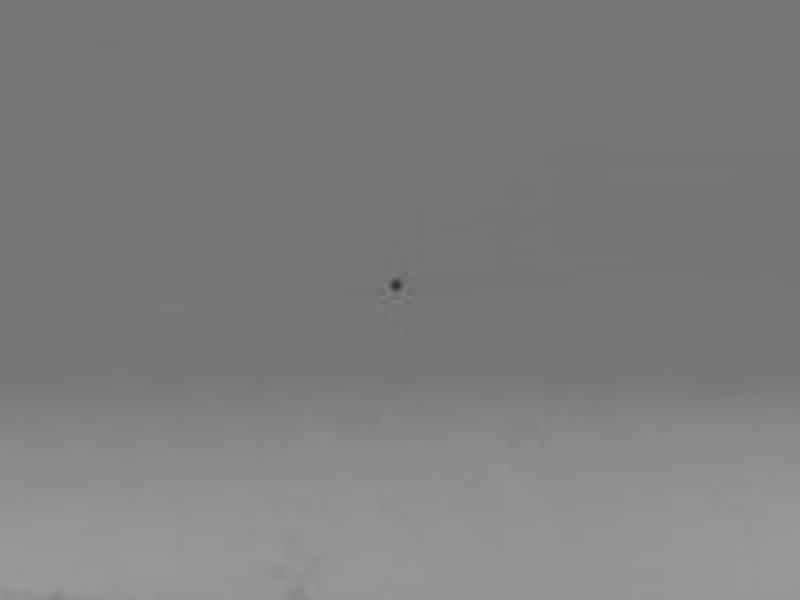defect: (382, 271, 411, 297)
